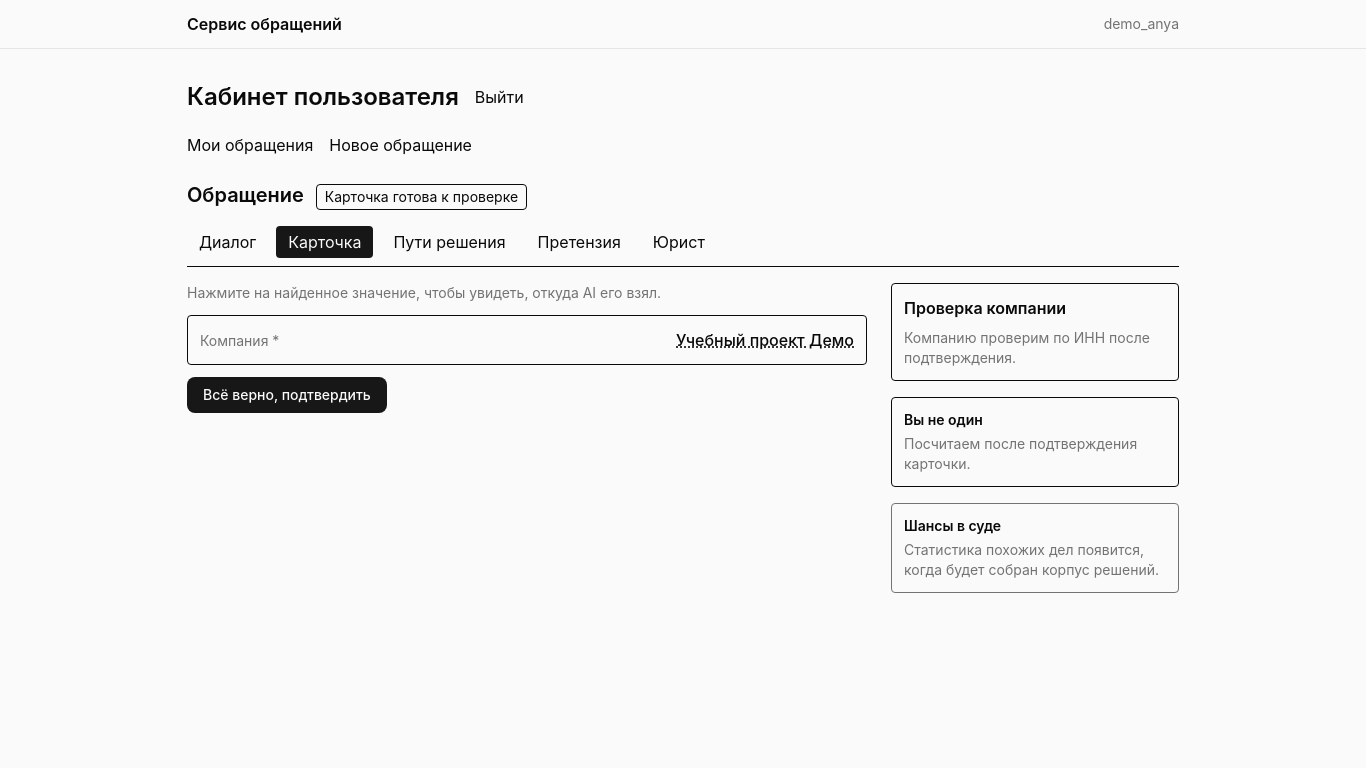
F3 card › shows the source quote for a found fact
Expected: the text "«Учебный проект Демо»" is not shown
Click the button "Учебный проект Демо" at (765,340), box [676,328,854,352]
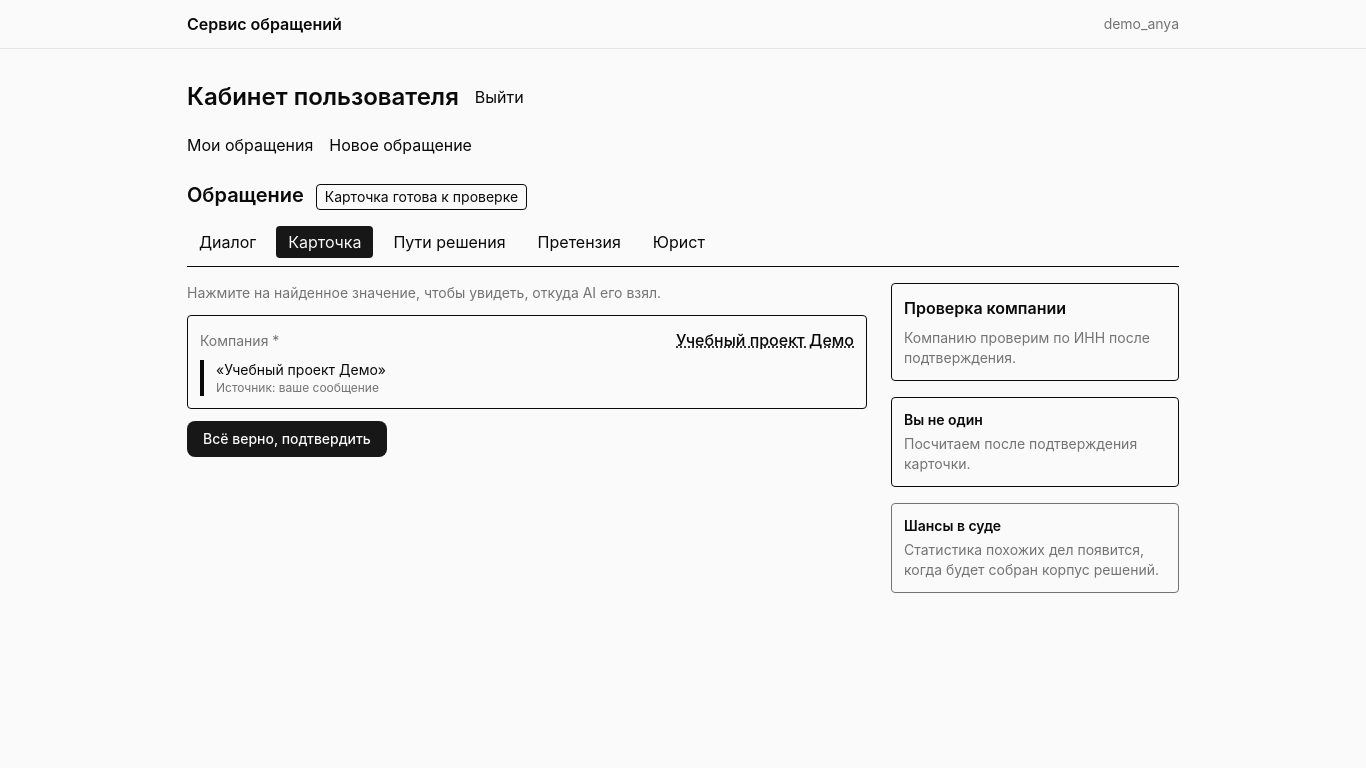
Expected: the text "«Учебный проект Демо»" is shown, [200,360,854,396]
Expected: the text "Источник: ваше сообщение" is shown, [216,380,379,395]
